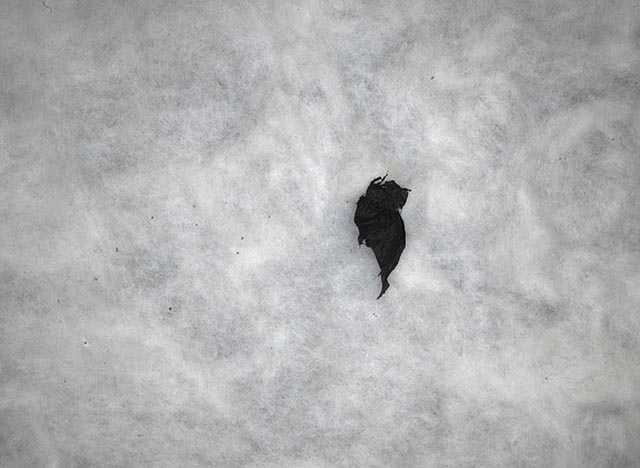plastic film: (354, 173, 413, 301)
